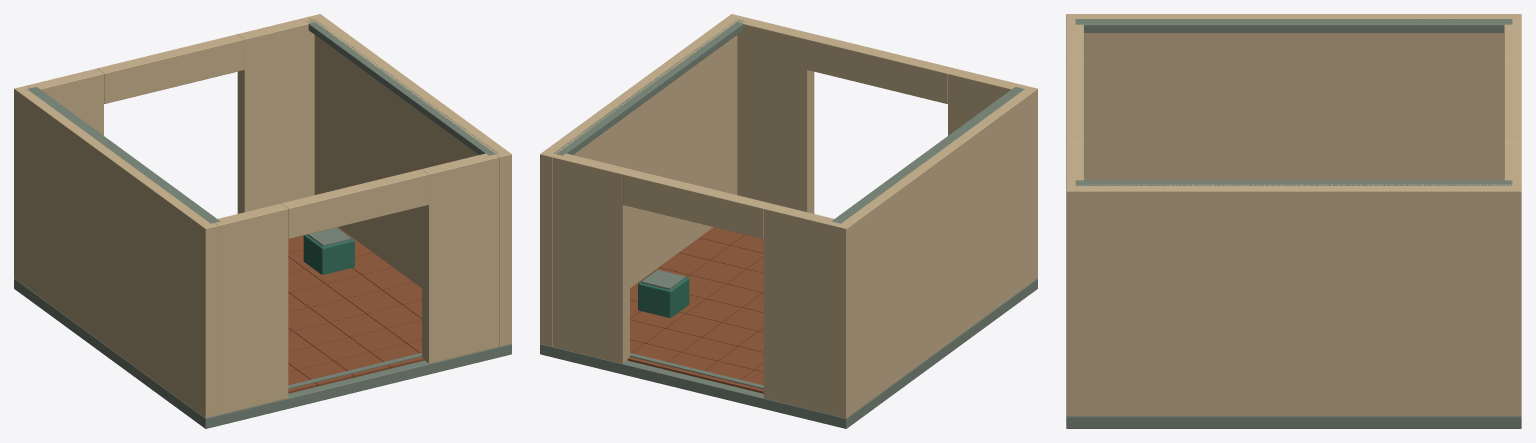
3 views of the same model, side by side, from view 1: azimuth 30°, elevation 25°; view 2: azimuth 150°, elevation 25°; view 3: azimuth 270°, elevation 25° (orthographic). The views are drawn at different scales.
Visible parts, largest first — view 1: COURT_SideWall.001, COURT_SideWall, COURT_EndPier.002, COURT_EndPier.001, COURT_EndPier, COURT_Foundation, COURT_Lintel, COURT_Lintel.001, COURT_Cornice, COURT_EndPier.003, COURT_Cornice.001, COURT_Planter (+21 smaller); view 2: COURT_SideWall.001, COURT_SideWall, COURT_EndPier, COURT_EndPier.003, COURT_EndPier.002, COURT_Foundation, COURT_Lintel.001, COURT_Lintel, COURT_Cornice, COURT_EndPier.001, COURT_Cornice.001, COURT_Planter (+22 smaller); view 3: COURT_SideWall, COURT_SideWall.001, COURT_Cornice.001, COURT_Foundation, COURT_Cornice, COURT_Lintel.001, COURT_Lintel, COURT_EndPier.002, COURT_EndPier, COURT_EndPier.001, COURT_EndPier.003.
Boxes of the visible parts, x1,y1,x2,y2 form: COURT_SideWall.001: (14,85,218,418); COURT_SideWall: (308,14,511,346); COURT_EndPier.002: (422,153,498,363); COURT_EndPier.001: (215,203,288,415); COURT_EndPier: (237,17,314,213); COURT_Foundation: (14,278,511,428); COURT_Lintel: (97,34,244,103); COURT_Lintel.001: (281,169,428,238); COURT_Cornice: (306,19,498,155); COURT_EndPier.003: (27,68,103,135); COURT_Cornice.001: (27,87,220,223); COURT_Planter: (303,227,354,274); COURT_SideWall.001: (833,85,1037,418); COURT_SideWall: (540,14,743,346); COURT_EndPier: (553,153,629,363); COURT_EndPier.003: (763,203,837,415); COURT_EndPier.002: (737,17,814,213); COURT_Foundation: (540,278,1037,428); COURT_Lintel.001: (807,34,954,103); COURT_Lintel: (623,169,770,238); COURT_Cornice: (553,19,745,155); COURT_EndPier.001: (948,68,1024,135); COURT_Cornice.001: (831,87,1024,223); COURT_Planter: (638,270,689,317); COURT_SideWall: (1066,184,1521,416); COURT_SideWall.001: (1066,14,1521,180); COURT_Cornice.001: (1075,19,1512,32); COURT_Foundation: (1066,416,1521,428); COURT_Cornice: (1075,180,1512,185); COURT_Lintel.001: (1066,62,1083,143); COURT_Lintel: (1504,62,1521,143); COURT_EndPier.002: (1066,143,1083,184); COURT_EndPier: (1504,143,1521,184); COURT_EndPier.001: (1066,21,1083,61); COURT_EndPier.003: (1504,21,1521,61).
Bounding box in the file's own units: 4.8 × 3 × 5.2.
